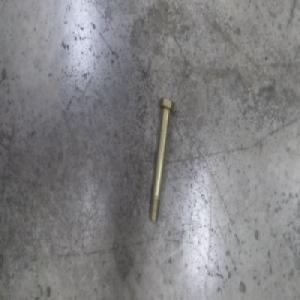Bolt: (148, 96, 175, 224)
